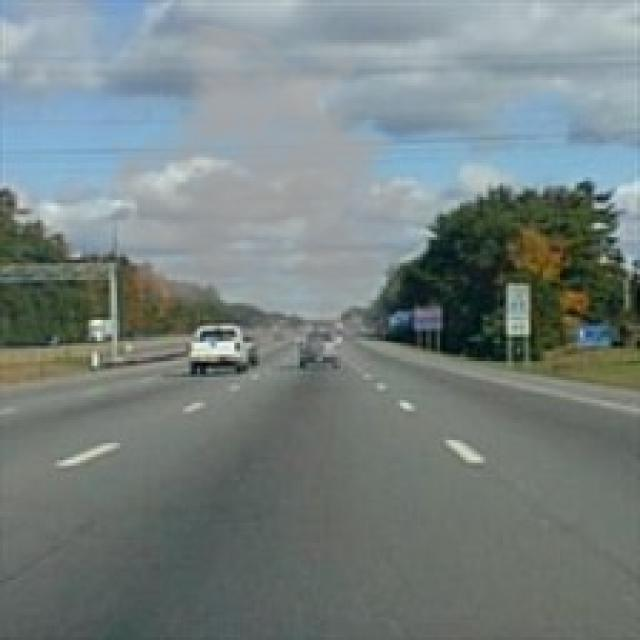smoke: (89, 20, 457, 374)
